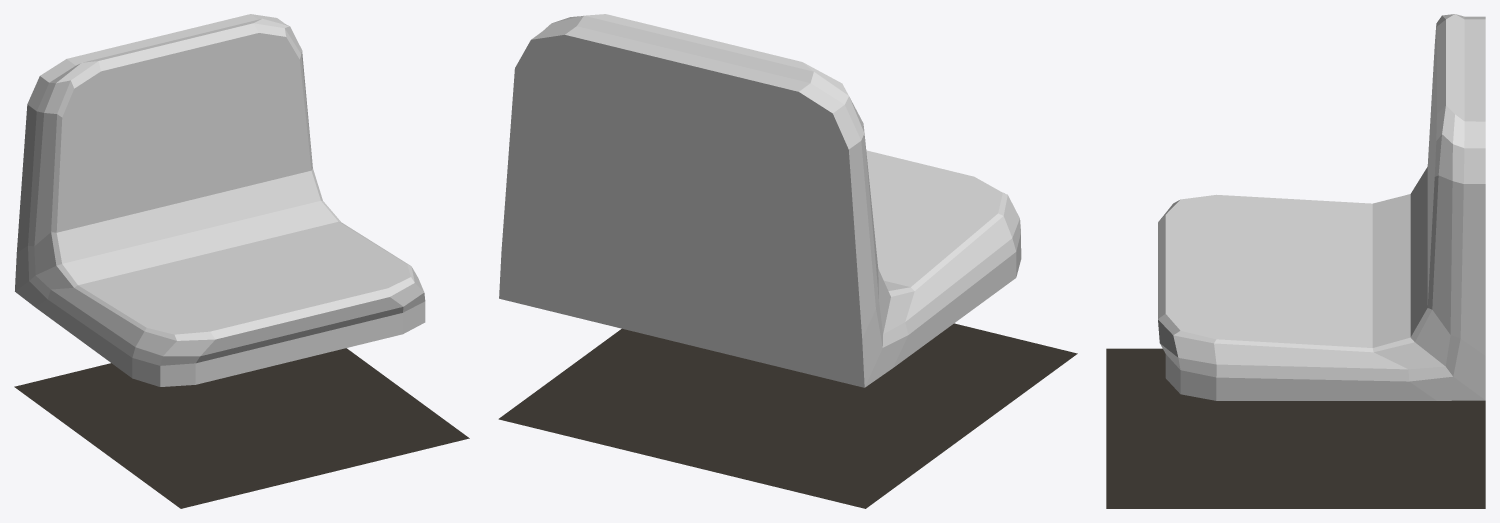
Rendered from Tile_Seat.fbx.
3 renders of one model, left to right at view 1: azimuth 30°, elevation 25°; view 2: azimuth 150°, elevation 25°; view 3: azimuth 270°, elevation 25°, orthographic. The views are drawn at different scales.
Visible parts, largest first — view 1: Tile_Seat; view 2: Tile_Seat; view 3: Tile_Seat.
Part boxes in pixels (x1,y1,x2,y2): Tile_Seat: (14,14,469,508); Tile_Seat: (498,14,1077,508); Tile_Seat: (1106,14,1485,508).
Size of the model in its own units: 100 by 107 by 100.
